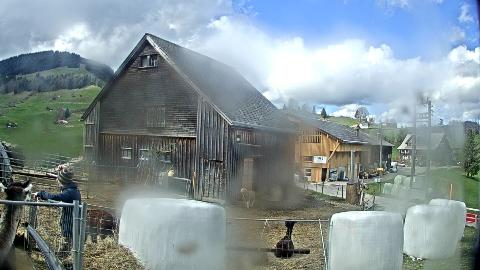car: (388, 166, 398, 172), (419, 162, 425, 166)
sheep: (0, 178, 34, 270), (73, 208, 117, 244), (274, 218, 298, 258), (116, 176, 150, 198), (241, 188, 256, 208)
